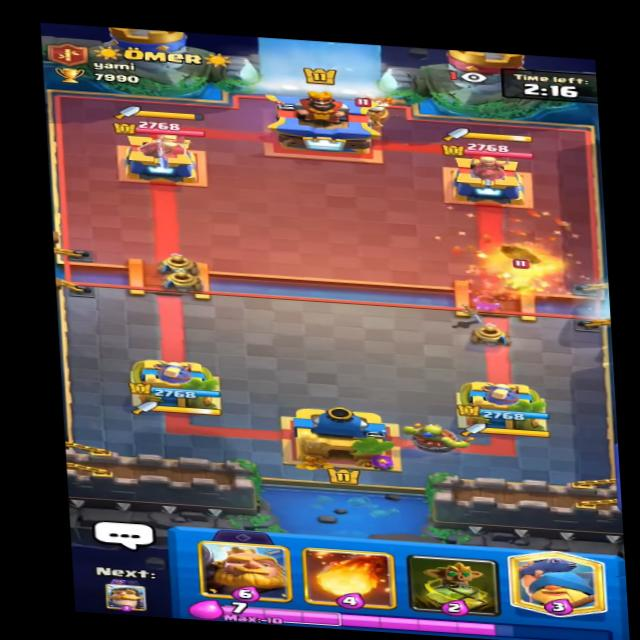Monk: (348, 91, 410, 130)
